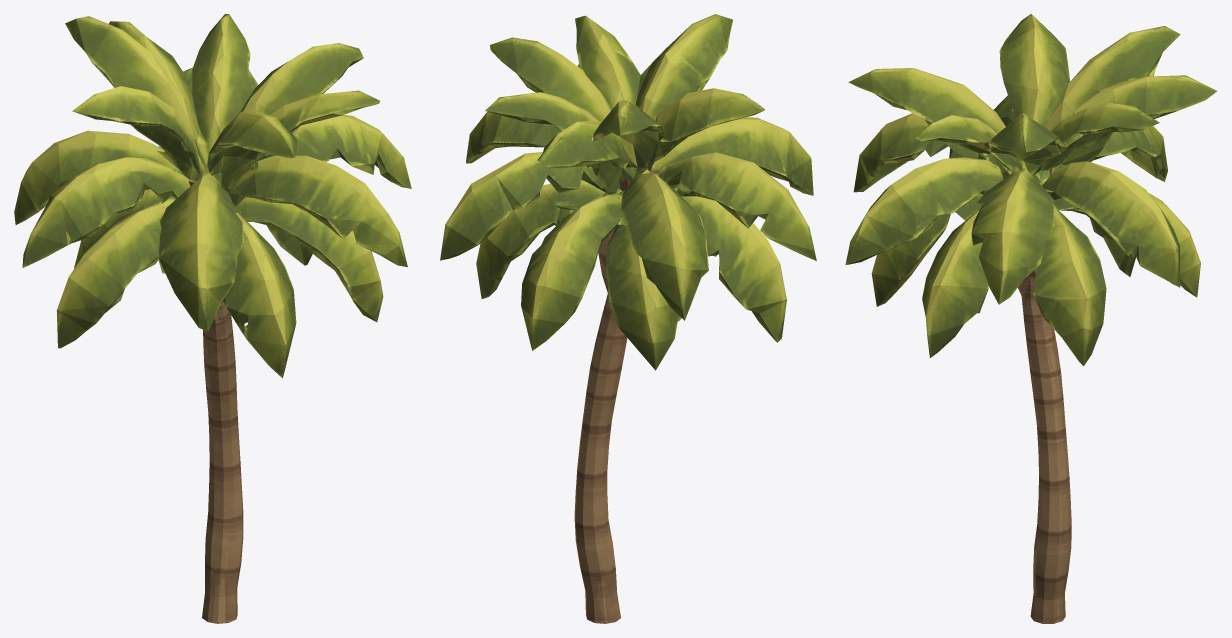
Rendered from palm_b.glb.
3 views of the same model, side by side, from view 1: azimuth 30°, elevation 25°; view 2: azimuth 150°, elevation 25°; view 3: azimuth 270°, elevation 25° (orthographic). The views are drawn at different scales.
Parts seen in each view (by area): view 1: body; view 2: body; view 3: body.
Boxes of the visible parts, box(x1,y1,x2,y2) form: body: box(14, 14, 411, 623); body: box(440, 14, 816, 623); body: box(845, 14, 1216, 623).
Size of the model in its own units: 4.43 by 6.52 by 3.97.
2 materials, 2 textured.
